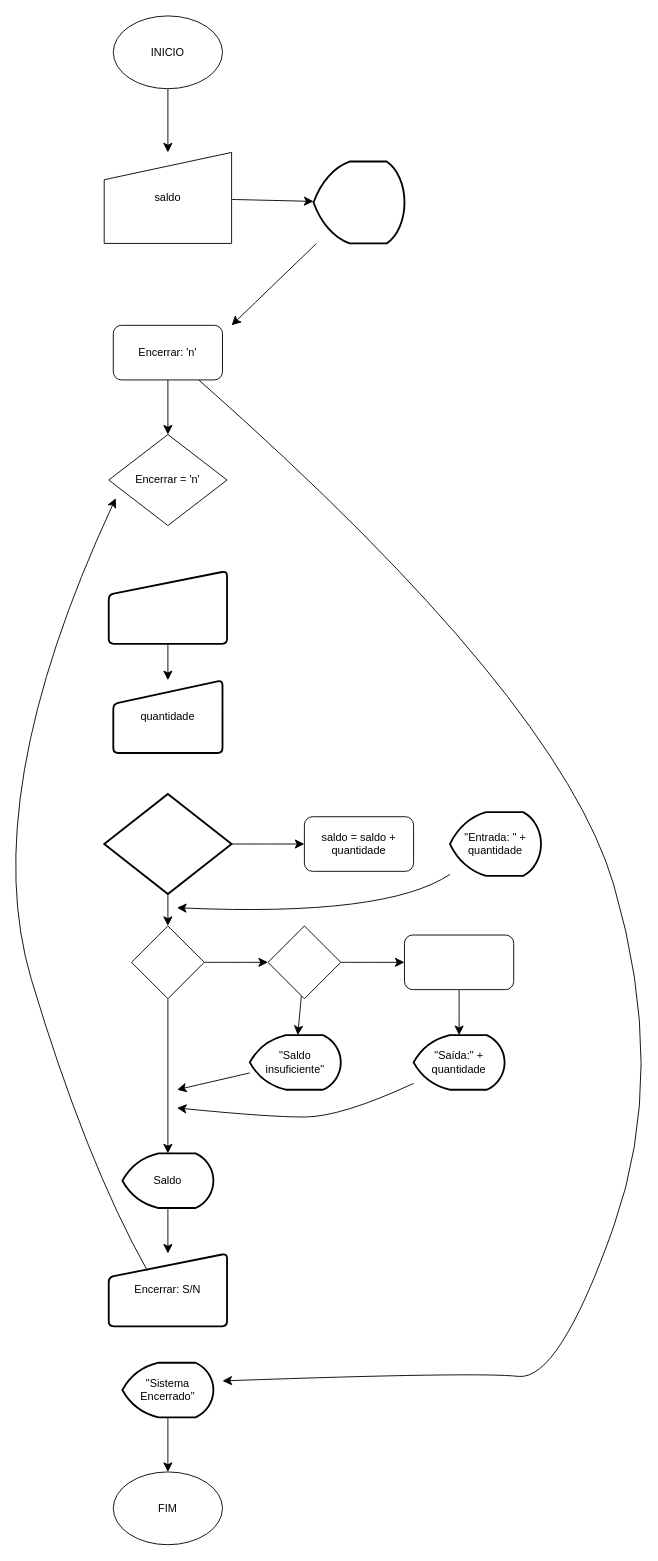
Image size: 658x1561. Some labels were removed from this diagram. Each missing label, with the box of its shape:
saldo = saldo - quantidade: (404, 934, 514, 990)
saldo >= quantidade: (267, 925, 341, 999)
saldo inicial: " + saldo: (312, 160, 405, 244)
tipo de entrada: (107, 570, 228, 644)
tipo de entrada = 1: (103, 793, 232, 895)
tipo de entrada = 2: (131, 925, 204, 999)
